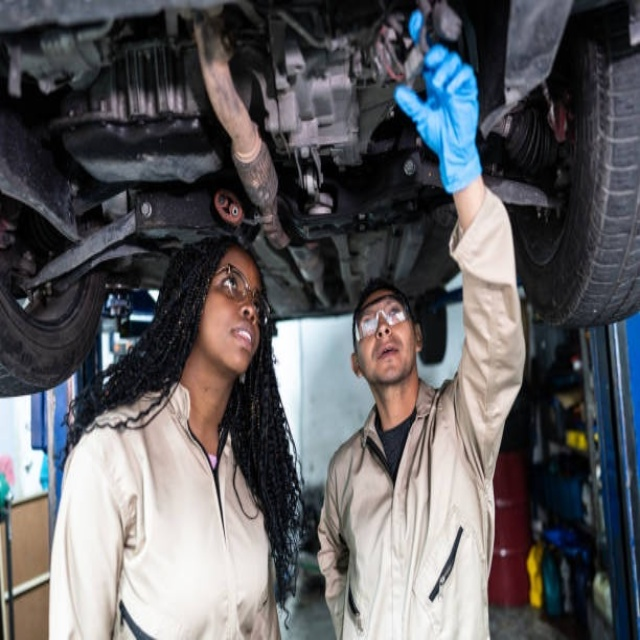Gafas: (208, 263, 269, 326), (354, 300, 413, 344)
Guantes: (395, 24, 481, 195)
Sin_mascara: (218, 318, 259, 365), (368, 339, 405, 383)
